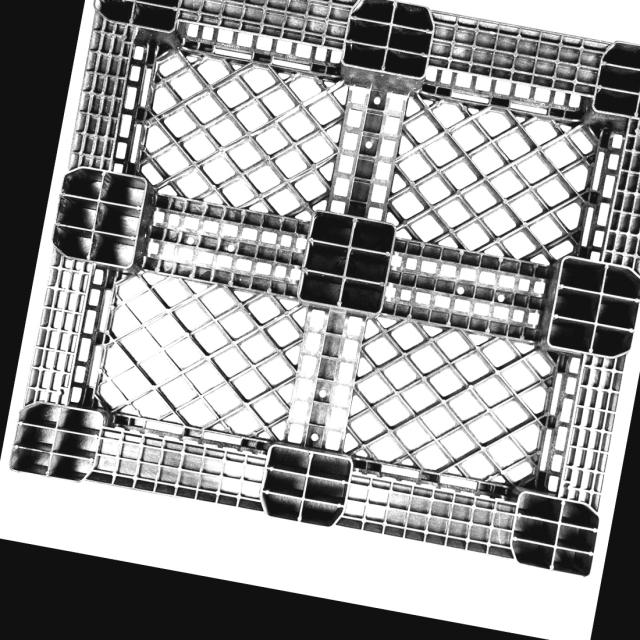non-igps: (6, 0, 640, 582)
